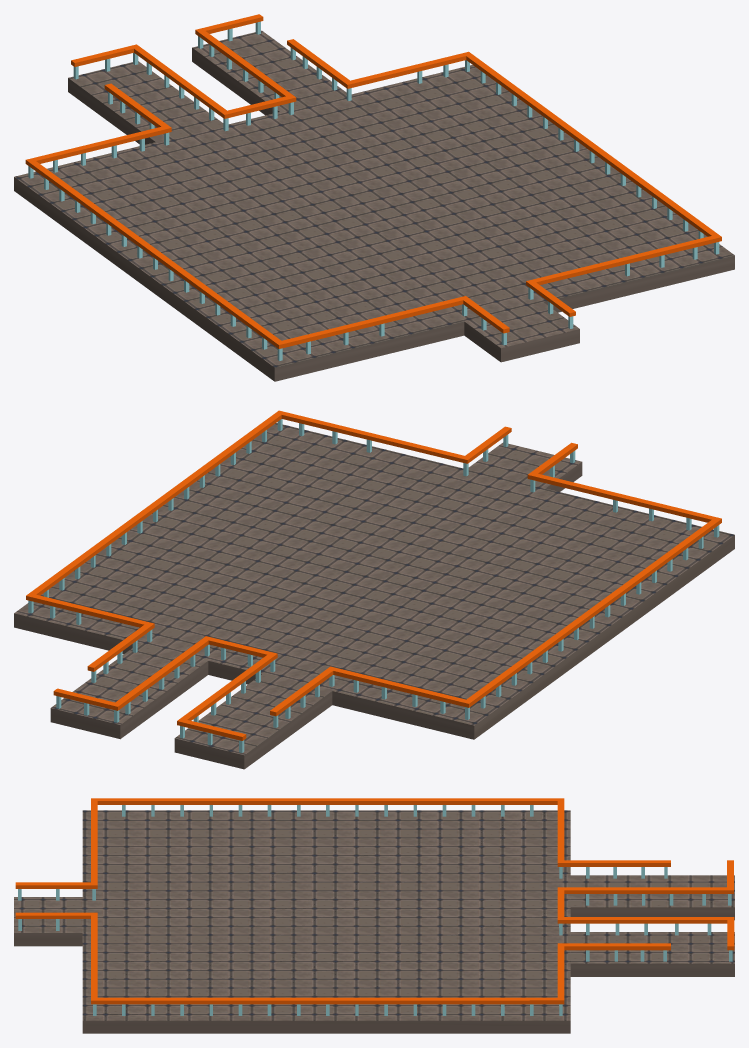
The model's file is 3rd floor.fbx.
The picture shows the model from 3 angles, top to bottom: view 1: azimuth 30°, elevation 25°; view 2: azimuth 150°, elevation 25°; view 3: azimuth 270°, elevation 25°; orthographic projection. The views are drawn at different scales.
Parts seen in each view (by area): view 1: 3rd, Railings.002; view 2: 3rd, Railings.002; view 3: 3rd, Railings.002.
Boxes of the visible parts, bbox=[...] form: 3rd: bbox=[14, 30, 734, 381]; Railings.002: bbox=[25, 14, 721, 360]; 3rd: bbox=[14, 423, 734, 769]; Railings.002: bbox=[26, 410, 721, 752]; 3rd: bbox=[14, 810, 734, 1033]; Railings.002: bbox=[15, 798, 734, 1015].
Size of the model in its own units: 2089 by 136 by 3030.
